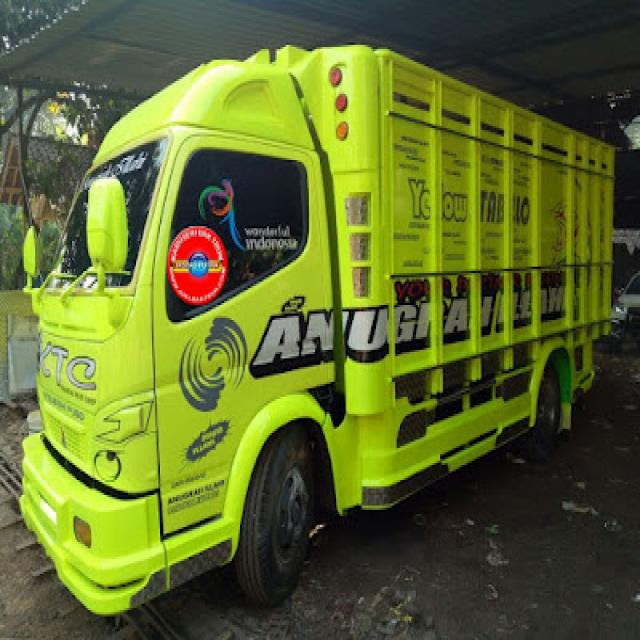truck: (14, 36, 616, 617)
